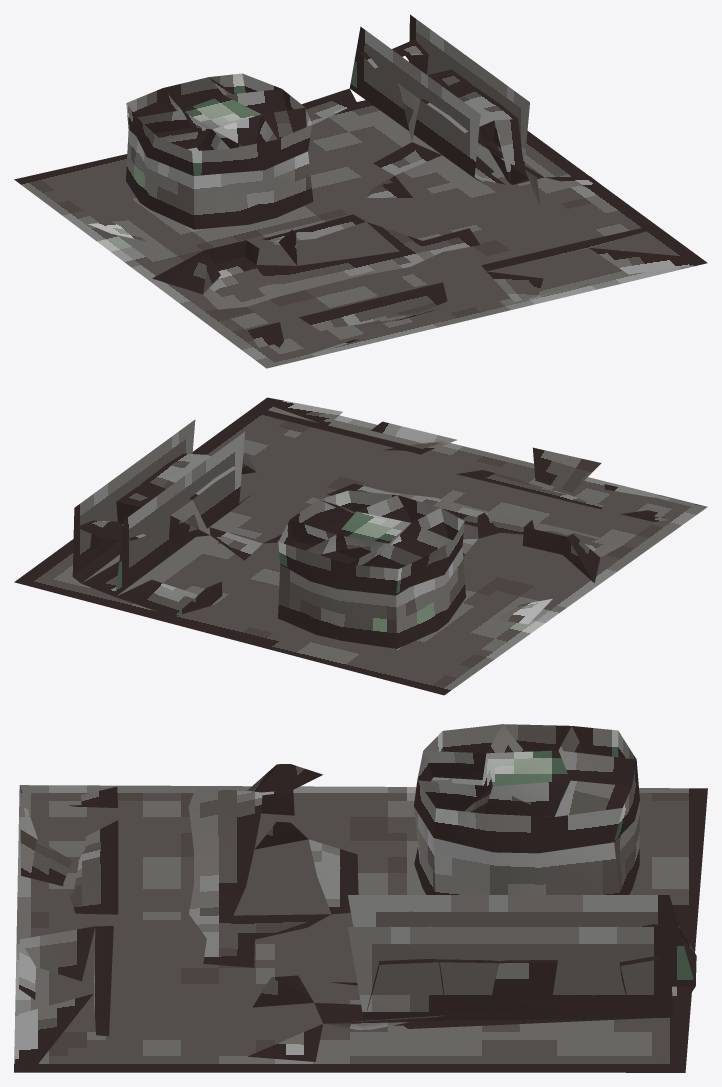
Rendered from circuit_board.glb.
3 views of the same model, one above another, from view 1: azimuth 30°, elevation 25°; view 2: azimuth 150°, elevation 25°; view 3: azimuth 270°, elevation 25° (orthographic). The views are drawn at different scales.
Parts seen in each view (by area): view 1: mesh; view 2: mesh; view 3: mesh.
Boxes of the visible parts, <box> form: mesh: <box>14,14,707,368</box>; mesh: <box>14,397,707,695</box>; mesh: <box>14,724,707,1072</box>.
Size of the model in its own units: 0.3774 by 0.0783 by 0.3841.
1 material, 1 textured.
